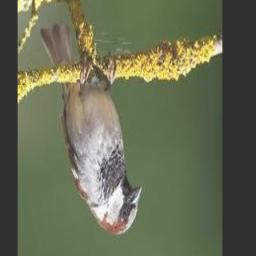Sparrow: (40, 25, 142, 237)
